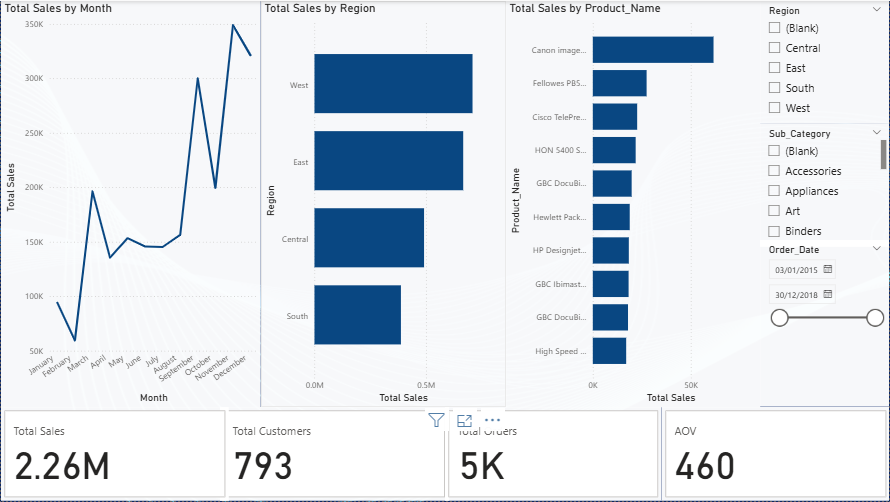

This screenshot's page, from the dashboard's own definition file:
{"tool":"powerbi","page":{"name":"Page 1","canvas":[1280,720],"ordinal":0},"visuals":[{"type":"cardVisual","fields":{"Data":["Orders.Total Sales"]},"box":[0,604.7,330.9,115.9],"z":0},{"type":"cardVisual","fields":{"Data":["Orders.Total Customers"]},"box":[330.9,604.7,327.6,115.9],"z":1},{"type":"cardVisual","fields":{"Data":["Orders.Total Orders"]},"box":[658.5,604.7,346,115.9],"z":2},{"type":"cardVisual","fields":{"Data":["Orders.AOV"]},"box":[1004.5,604.7,275.5,115.9],"z":3},{"type":"lineChart","fields":{"Category":["Orders.Order_Date.Variation.Date Hierarchy.Month"],"Y":["Orders.Total Sales"]},"box":[0,0,385.9,604.8],"z":4},{"type":"clusteredBarChart","fields":{"Category":["Orders.Region"],"Y":["Orders.Total Sales"]},"box":[385.9,0,364.3,604.8],"z":5},{"type":"clusteredBarChart","fields":{"Category":["Orders.Product_Name"],"Y":["Orders.Total Sales"]},"box":[750.2,0,361.4,604.8],"z":6},{"type":"slicer","fields":{"Values":["Orders.Region"]},"box":[1111.7,0,168.5,223.2],"z":7},{"type":"slicer","fields":{"Values":["Orders.Sub_Category"]},"box":[1111.7,223.2,168.5,207.4],"z":8},{"type":"slicer","fields":{"Values":["Orders.Order_Date"]},"box":[1111.7,433.4,168.5,171.4],"z":9}]}

Visuals, with their boxes in screenshot pixels (x1, y1, x2, y2), scaled from the page's 1280x720 canvas onto the 890x502 screenshot:
cardVisual - Orders.Total Sales: (0, 422, 230, 501)
cardVisual - Orders.Total Customers: (230, 422, 458, 501)
cardVisual - Orders.Total Orders: (458, 422, 698, 501)
cardVisual - Orders.AOV: (698, 422, 889, 501)
lineChart - Orders.Order_Date.Variation.Date Hierarchy.Month x Orders.Total Sales: (0, 0, 268, 422)
clusteredBarChart - Orders.Region x Orders.Total Sales: (268, 0, 522, 422)
clusteredBarChart - Orders.Product_Name x Orders.Total Sales: (522, 0, 773, 422)
slicer - Orders.Region: (773, 0, 889, 156)
slicer - Orders.Sub_Category: (773, 156, 889, 300)
slicer - Orders.Order_Date: (773, 302, 889, 422)
